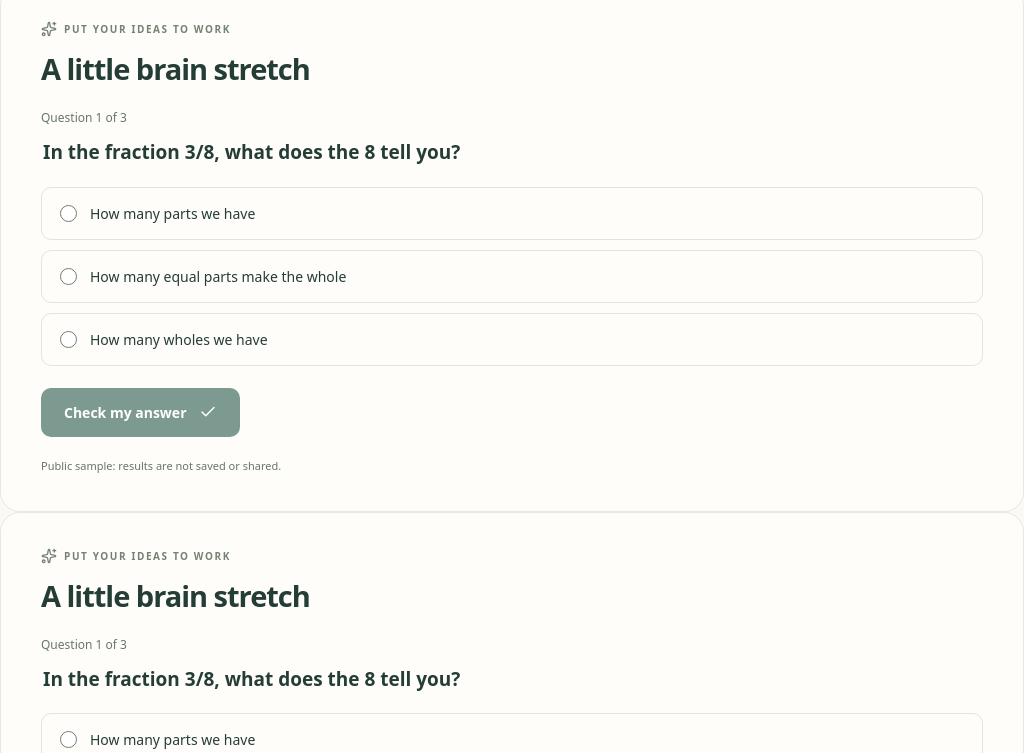
practice quiz › keeps repeated section quizzes' headings and radio groups independent
This screenshot has width=1024, height=753.
Click the 1st radio button labelled "How many parts we have" at (68, 213), box [60,205,77,222]
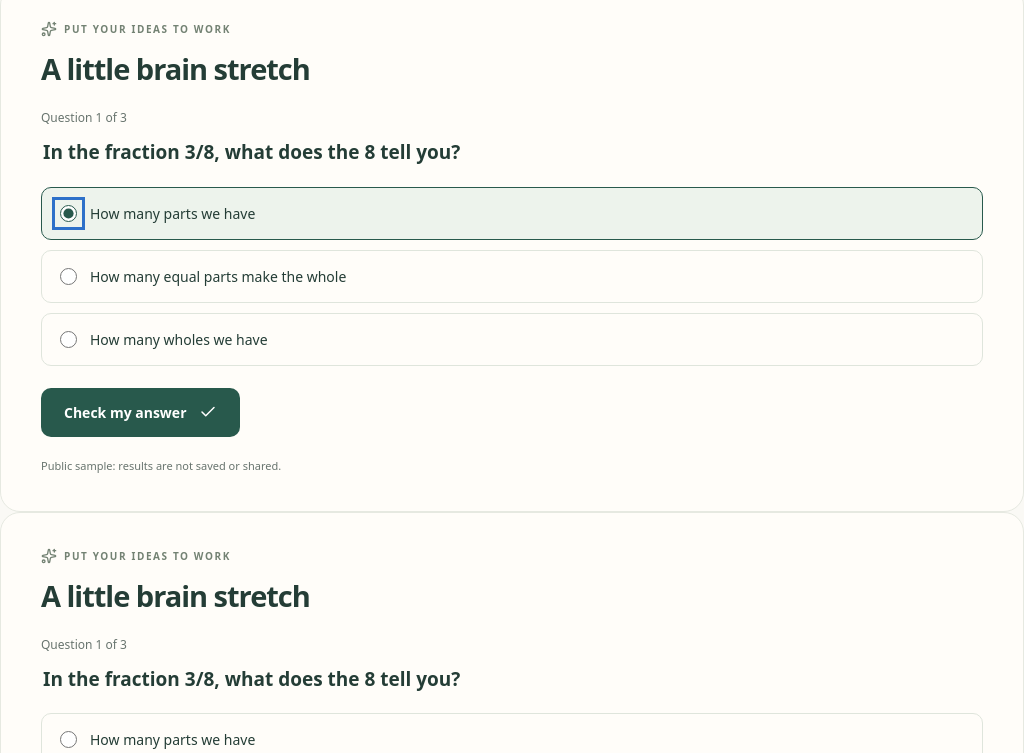
Click the 2nd radio button labelled "How many parts we have" at (68, 740), box [60,732,77,748]
(page scrolled)
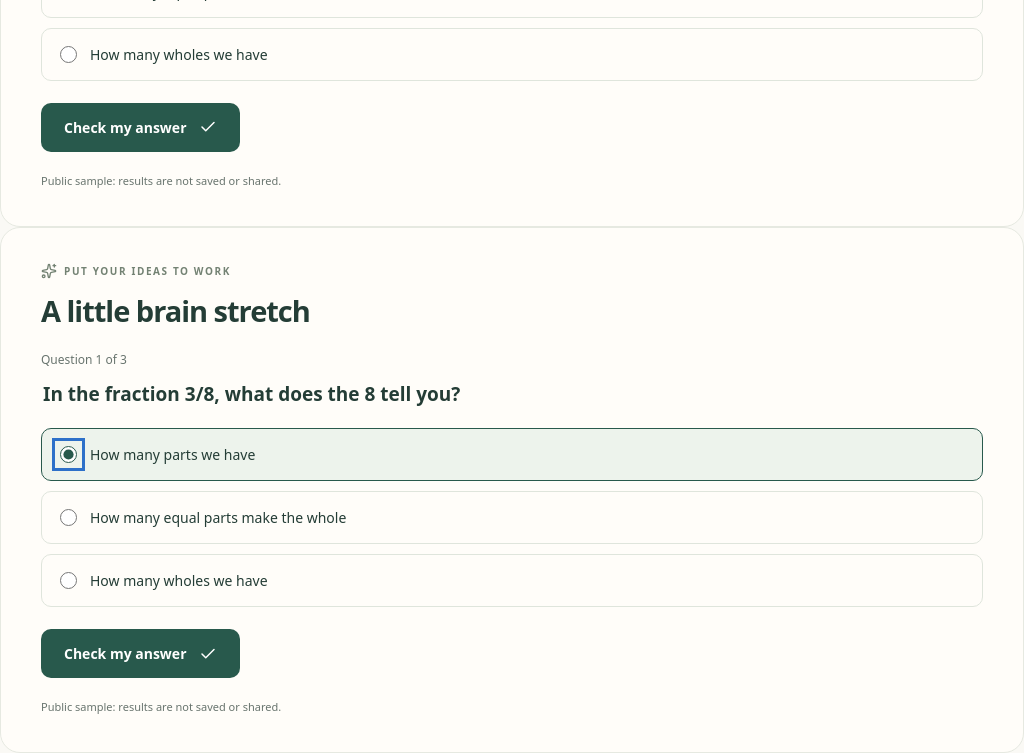
Now the radio button labelled "How many parts we have" is checked, box [60,446,77,464]
Now the 1st button "Check my answer" is enabled, box [41,103,240,152]
Now the 2nd button "Check my answer" is enabled, box [41,630,240,678]
